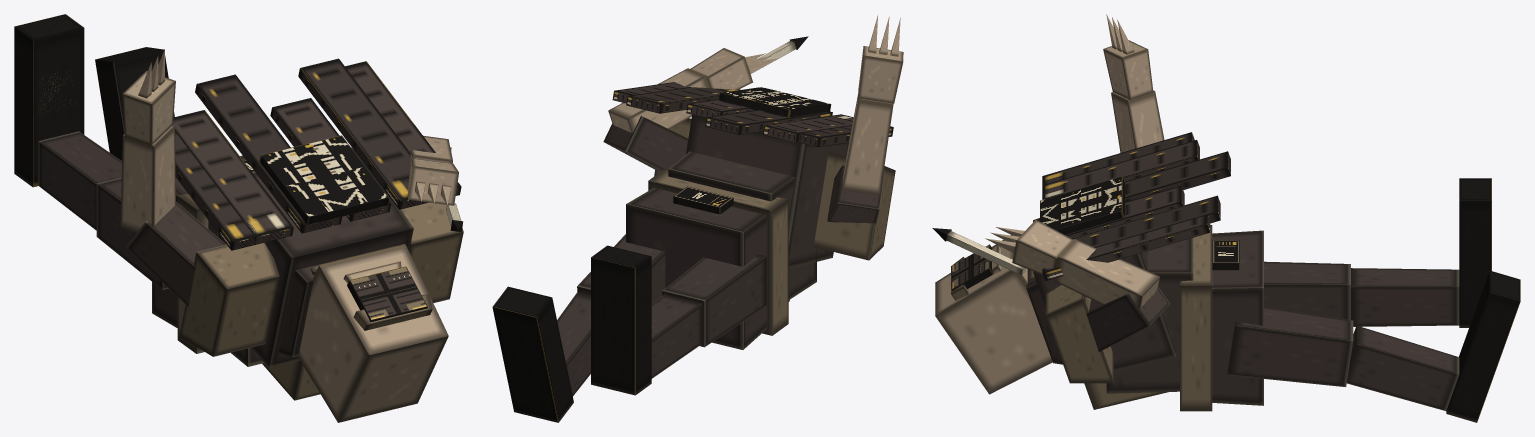
Rendered from scriptorax_hurt.obj.
3 renders of one model, left to right at view 1: azimuth 30°, elevation 25°; view 2: azimuth 150°, elevation 25°; view 3: azimuth 270°, elevation 25°, orthographic. The views are drawn at different scales.
Parts seen in each view (by area): view 1: scriptorax_hurt; view 2: scriptorax_hurt; view 3: scriptorax_hurt.
Part boxes in pixels (x1,y1,x2,y2): scriptorax_hurt: (14,14,463,422); scriptorax_hurt: (492,15,903,422); scriptorax_hurt: (932,14,1520,422).
Size of the model in its own units: 0.6091 by 0.6443 by 1.07.
1 material, 1 textured.
